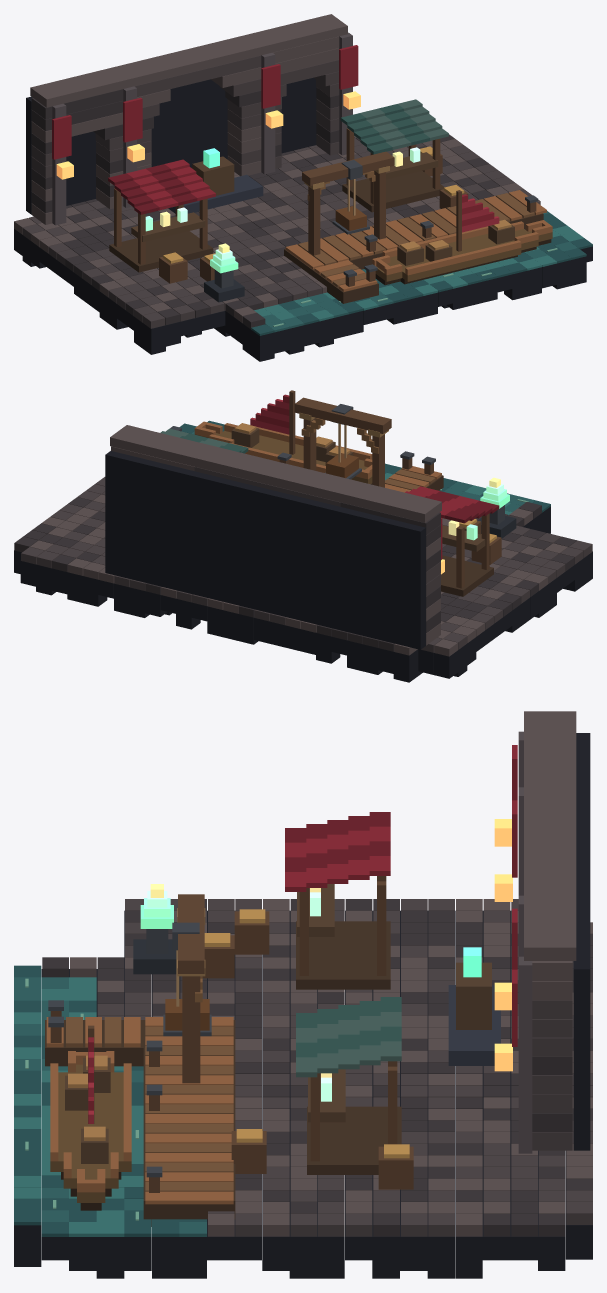
File: preview-black-market.glb
3 views of the same model, one above another, from view 1: azimuth 30°, elevation 25°; view 2: azimuth 150°, elevation 25°; view 3: azimuth 270°, elevation 25° (orthographic). The views are drawn at different scales.
Parts seen in each view (by area): view 1: Terrain, Preview_Auction_Wall, Preview_Market_Stalls, Floating_Bedrock, Preview_Vault, Preview_Harbor_Skiff, Preview_Harbor_Pier, Preview_Harbor_Water, Preview_Harbor_Gantry, Preview_Banner, Preview_Auction_Dais, Preview_Contraband_Crates (+5 smaller); view 2: Preview_Vault, Terrain, Floating_Bedrock, Preview_Auction_Wall, Preview_Harbor_Skiff, Preview_Market_Stalls, Preview_Harbor_Gantry, Preview_Harbor_Water, Preview_Harbor_Pier, Preview_Contraband_Crates, Brazier, Preview_Harbor_Piles (+1 smaller); view 3: Terrain, Preview_Market_Stalls, Preview_Auction_Wall, Floating_Bedrock, Preview_Harbor_Pier, Preview_Harbor_Water, Preview_Harbor_Skiff, Preview_Vault, Preview_Contraband_Crates, Preview_Harbor_Gantry, Preview_Auction_Dais, Preview_Lantern (+4 smaller).
Part boxes in pixels (bbox=[...]): Terrain: bbox=[14, 134, 540, 329]; Preview_Auction_Wall: bbox=[30, 14, 352, 225]; Preview_Market_Stalls: bbox=[108, 99, 448, 272]; Floating_Bedrock: bbox=[14, 229, 592, 361]; Preview_Vault: bbox=[26, 77, 316, 214]; Preview_Harbor_Skiff: bbox=[372, 190, 552, 285]; Preview_Harbor_Pier: bbox=[284, 190, 546, 303]; Preview_Harbor_Water: bbox=[251, 211, 592, 335]; Preview_Harbor_Gantry: bbox=[302, 151, 394, 255]; Preview_Banner: bbox=[52, 45, 358, 159]; Preview_Auction_Dais: bbox=[168, 156, 263, 213]; Preview_Contraband_Crates: bbox=[159, 146, 468, 283]; Preview_Vault: bbox=[105, 451, 425, 649]; Terrain: bbox=[14, 477, 592, 656]; Floating_Bedrock: bbox=[14, 506, 592, 682]; Preview_Auction_Wall: bbox=[110, 425, 441, 645]; Preview_Harbor_Skiff: bbox=[194, 390, 372, 484]; Preview_Market_Stalls: bbox=[160, 428, 499, 596]; Preview_Harbor_Gantry: bbox=[294, 397, 391, 487]; Preview_Harbor_Water: bbox=[179, 420, 550, 514]; Preview_Harbor_Pier: bbox=[385, 466, 443, 492]; Preview_Contraband_Crates: bbox=[459, 519, 501, 564]; Brazier: bbox=[478, 505, 516, 538]; Preview_Harbor_Piles: bbox=[170, 426, 435, 474]; Terrain: bbox=[42, 899, 592, 1236]; Preview_Market_Stalls: bbox=[285, 812, 401, 1174]; Preview_Auction_Wall: bbox=[518, 711, 576, 1153]; Floating_Bedrock: bbox=[14, 910, 592, 1278]; Preview_Harbor_Pier: bbox=[45, 1017, 235, 1219]; Preview_Harbor_Water: bbox=[14, 965, 206, 1236]; Preview_Harbor_Skiff: bbox=[50, 1025, 131, 1210]; Preview_Vault: bbox=[573, 733, 590, 1150]; Preview_Contraband_Crates: bbox=[202, 909, 413, 1189]; Preview_Harbor_Gantry: bbox=[163, 894, 211, 1083]; Preview_Auction_Dais: bbox=[448, 962, 500, 1065]; Preview_Lantern: bbox=[494, 819, 512, 1071].
Bounding box in the file's own units: 8.4 × 3.08 × 6.3.
